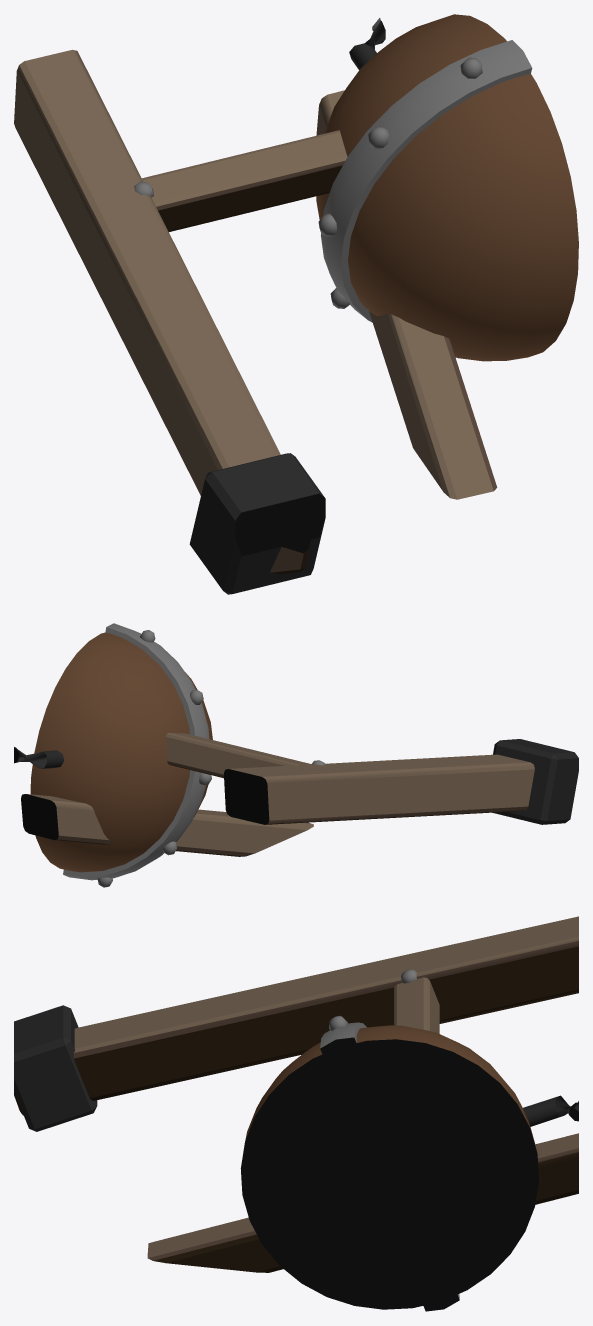
The model's file is gbc_derrick_ll.glb.
3 views of the same model, one above another, from view 1: azimuth 30°, elevation 25°; view 2: azimuth 150°, elevation 25°; view 3: azimuth 270°, elevation 25° (orthographic). The views are drawn at different scales.
Parts seen in each view (by area): view 1: ball.001, leg0.001, foot0.001, leg2.001, crossbar.002, ball_band.001, shackle.001; view 2: ball.001, leg0.001, leg2.001, ball_band.001, foot0.001, crossbar.002, shackle.001; view 3: ball.001, leg0.001, ball_band.001, foot0.001, leg2.001, crossbar.002, shackle.001.
Part boxes in pixels (box(x1,y1,x2,y2)): ball.001: box(316, 14, 578, 361); leg0.001: box(14, 49, 312, 574); foot0.001: box(189, 453, 325, 594); leg2.001: box(316, 90, 497, 499); crossbar.002: box(142, 130, 347, 231); ball_band.001: box(320, 40, 532, 322); shackle.001: box(349, 20, 385, 69); ball.001: box(30, 632, 212, 872); leg0.001: box(224, 754, 534, 824); leg2.001: box(21, 794, 313, 856); ball_band.001: box(63, 623, 209, 880); foot0.001: box(492, 739, 578, 824); crossbar.002: box(166, 733, 311, 778); shackle.001: box(14, 747, 63, 768); ball.001: box(240, 1025, 538, 1309); leg0.001: box(14, 916, 578, 1115); ball_band.001: box(320, 1022, 459, 1311); foot0.001: box(14, 1005, 97, 1131); leg2.001: box(147, 1133, 578, 1272); crossbar.002: box(394, 977, 439, 1155); shackle.001: box(523, 1095, 578, 1126).
Bounding box in the file's own units: 23.2 × 15.25 × 28.
